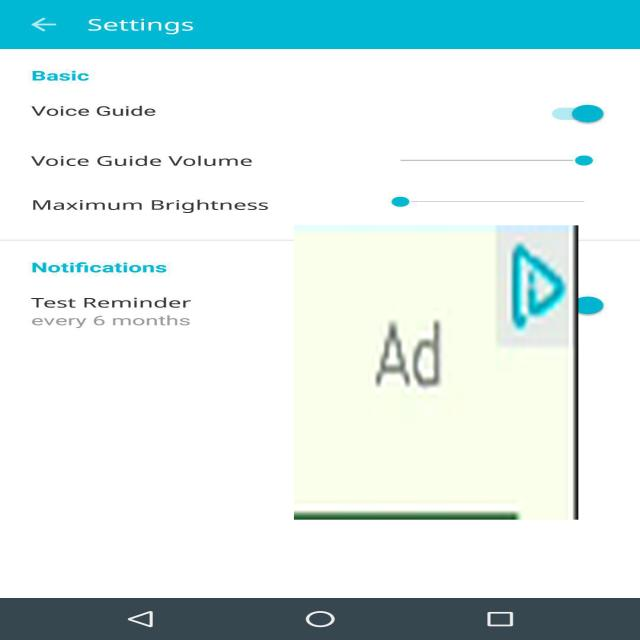sneaking: (294, 225, 578, 520)
